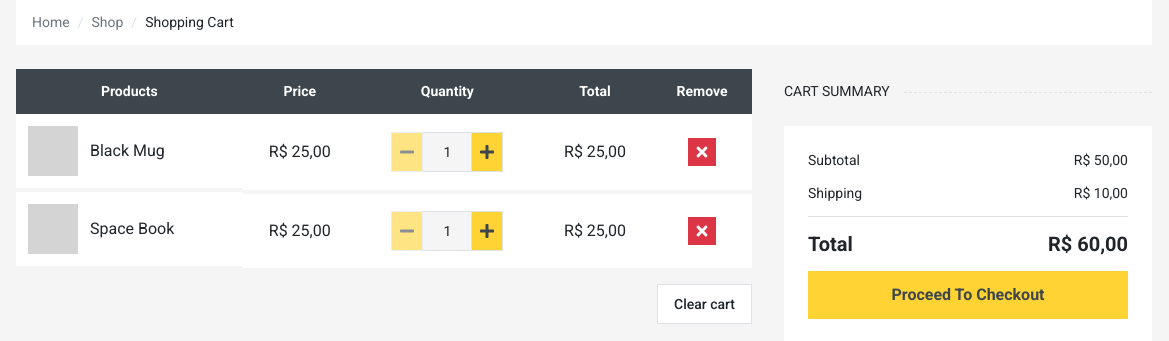
it: Cart › clears the whole cart
Expected: the text "Black Mug" is shown, [90,139,165,163]
Click the button "Clear cart": (704, 304) [657,284,752,324]
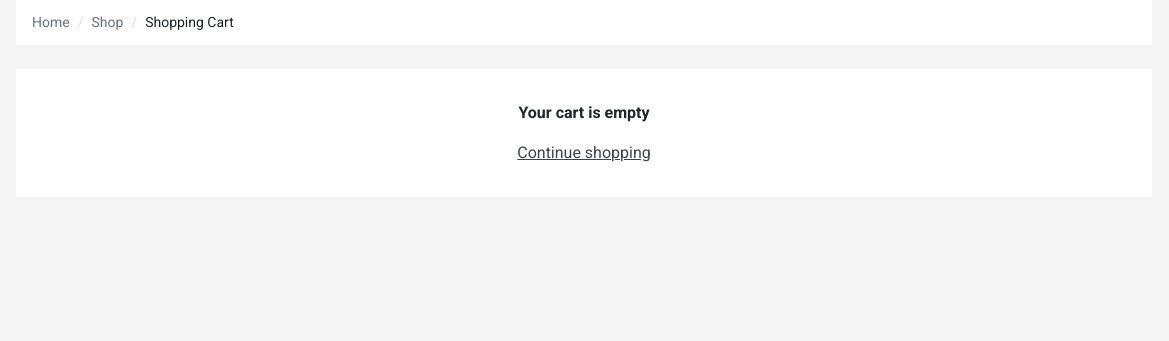
Result: the text "Your cart is empty" is shown at [518,101,650,125]
